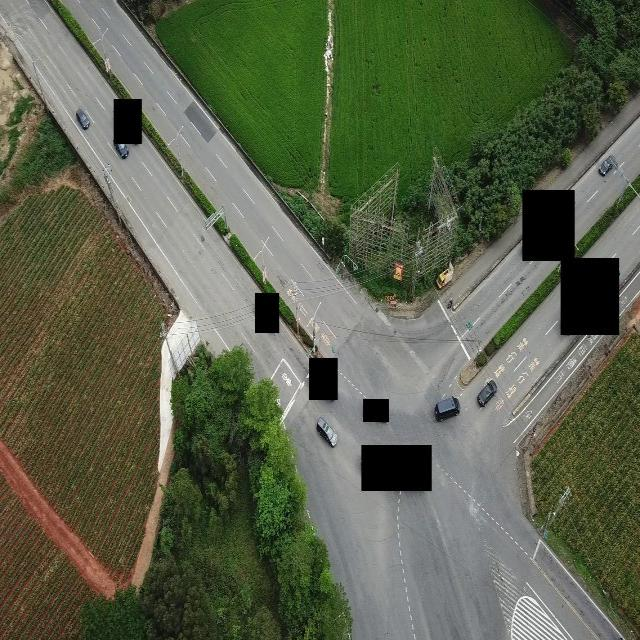car: (316, 416, 338, 447), (434, 395, 460, 421), (477, 378, 497, 407), (436, 260, 454, 289), (76, 107, 90, 129), (599, 155, 614, 175), (115, 142, 129, 158)
